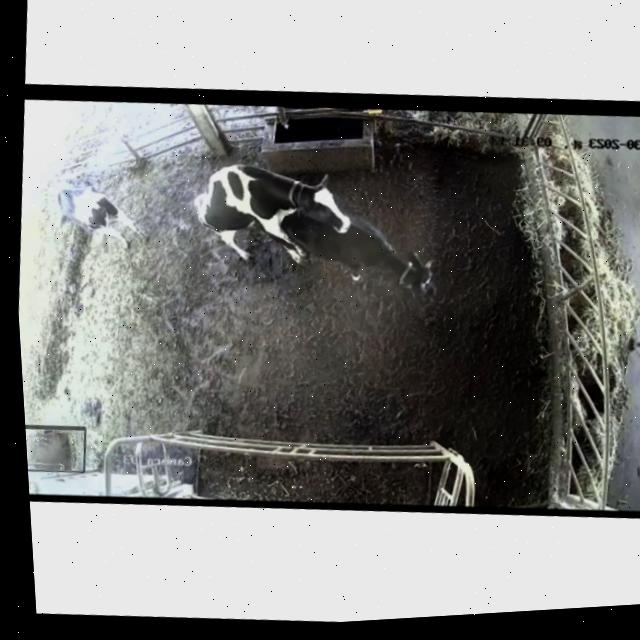ride: (174, 146, 364, 283)
